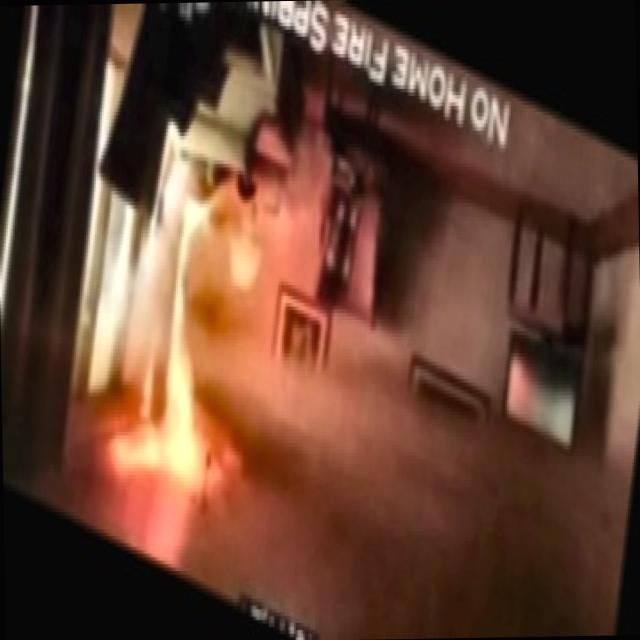fire: (90, 116, 278, 583)
